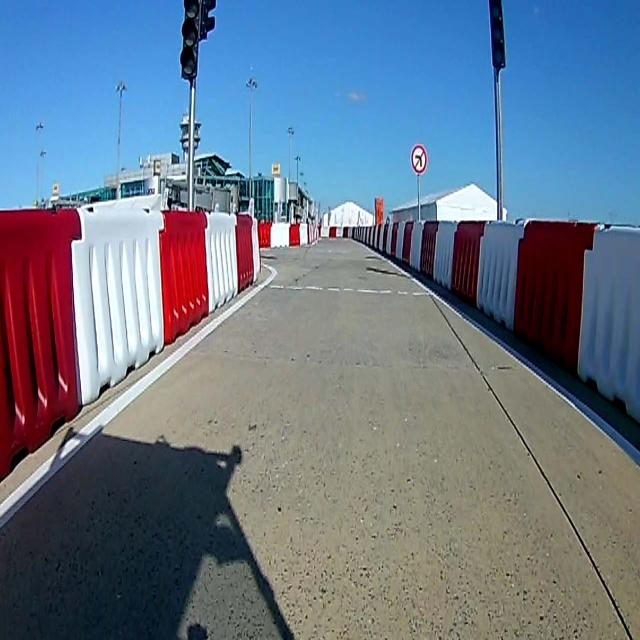soladonulmez: (410, 142, 428, 174)
